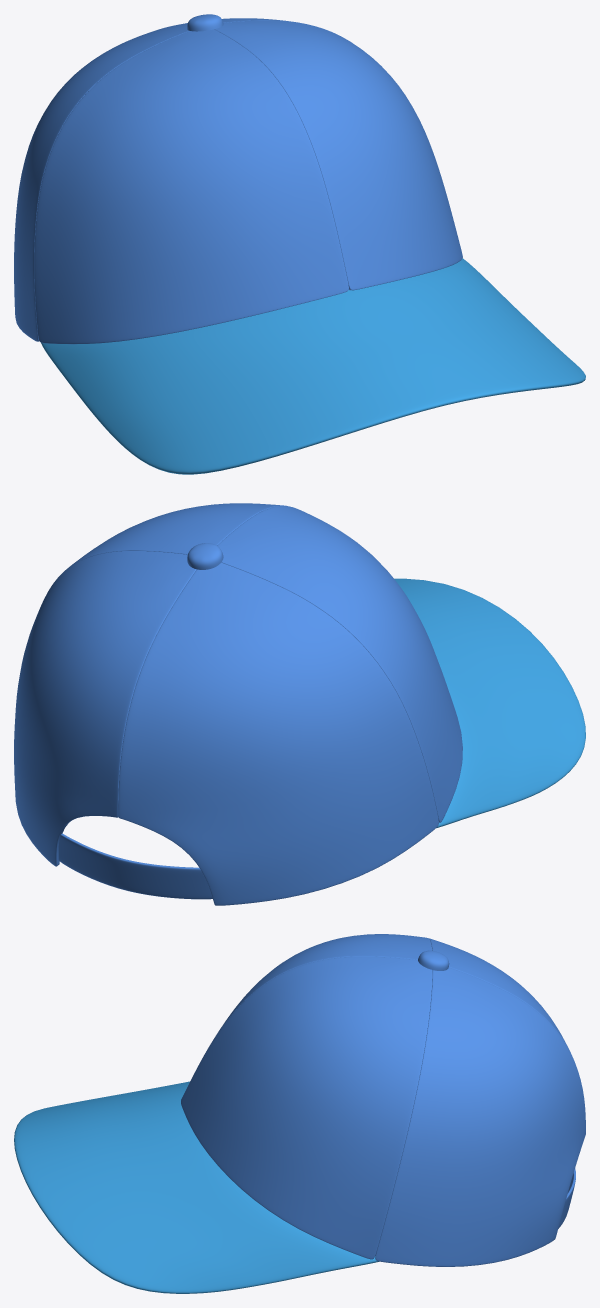
Rendered from cap.fbx.
3 views of the same model, one above another, from view 1: azimuth 30°, elevation 25°; view 2: azimuth 150°, elevation 25°; view 3: azimuth 270°, elevation 25° (orthographic). The views are drawn at different scales.
Visible parts, largest first — view 1: BODY; view 2: BODY; view 3: BODY.
Part boxes in pixels (<box>): BODY: <box>14,14,585,474</box>; BODY: <box>14,503,585,905</box>; BODY: <box>14,934,585,1293</box>.
Bounding box in the file's own units: 1904 × 1234 × 2542.
